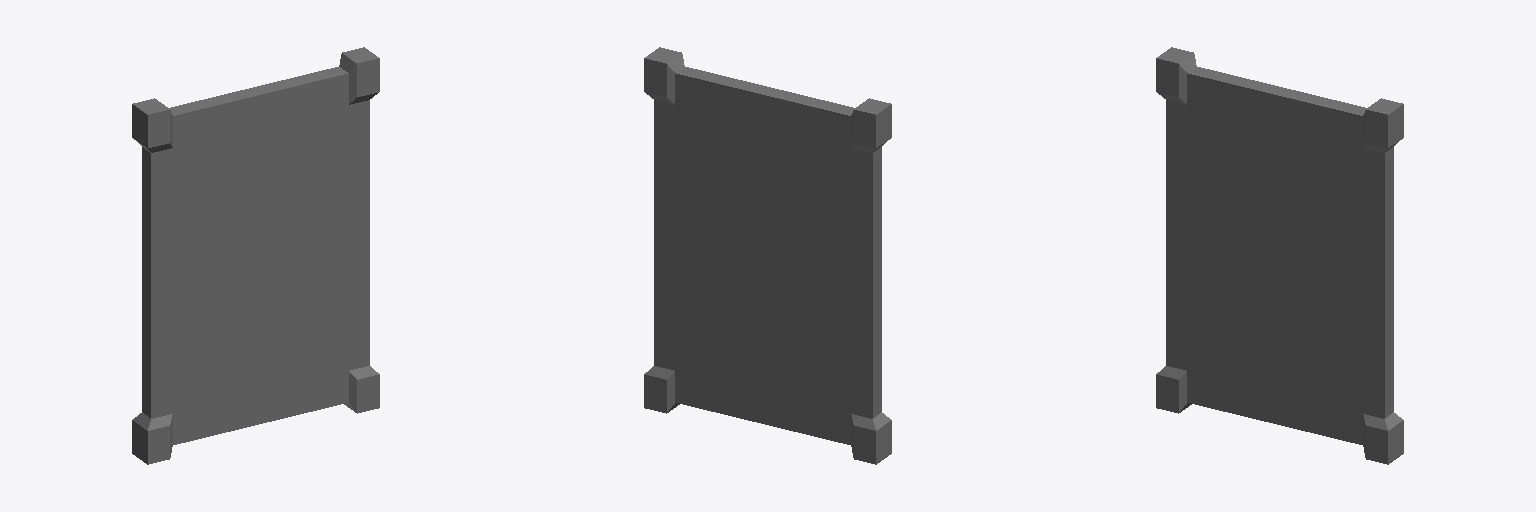
Rendered from PDA.obj.
The picture shows the model from 3 angles: view 1: azimuth 30°, elevation 25°; view 2: azimuth 150°, elevation 25°; view 3: azimuth 330°, elevation 25°; orthographic projection.
Visible parts, largest first — view 1: PDA_obj_PDA_obj; view 2: PDA_obj_PDA_obj; view 3: PDA_obj_PDA_obj.
Part boxes in pixels (x1,y1,x2,y2): PDA_obj_PDA_obj: (132,47,379,464); PDA_obj_PDA_obj: (644,47,891,464); PDA_obj_PDA_obj: (1156,47,1403,464).
Bounding box in the file's own units: 42.25 × 60.86 × 4.8.